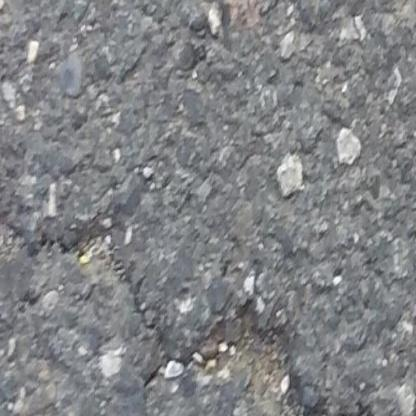Cracks: (0, 153, 416, 416)
